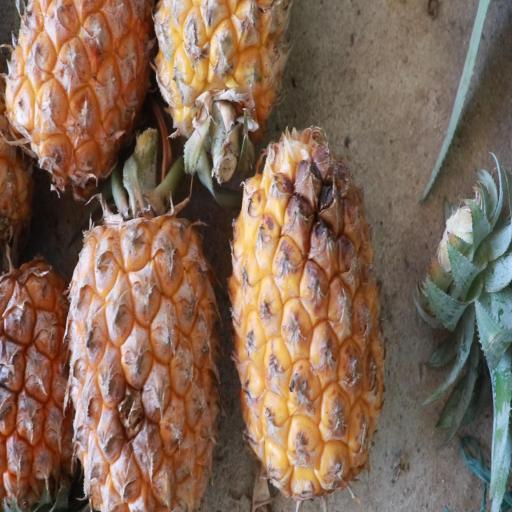Pineapple - v8 v1: (224, 117, 388, 496), (64, 164, 226, 512), (1, 2, 156, 189), (148, 0, 290, 156), (0, 243, 82, 510)
